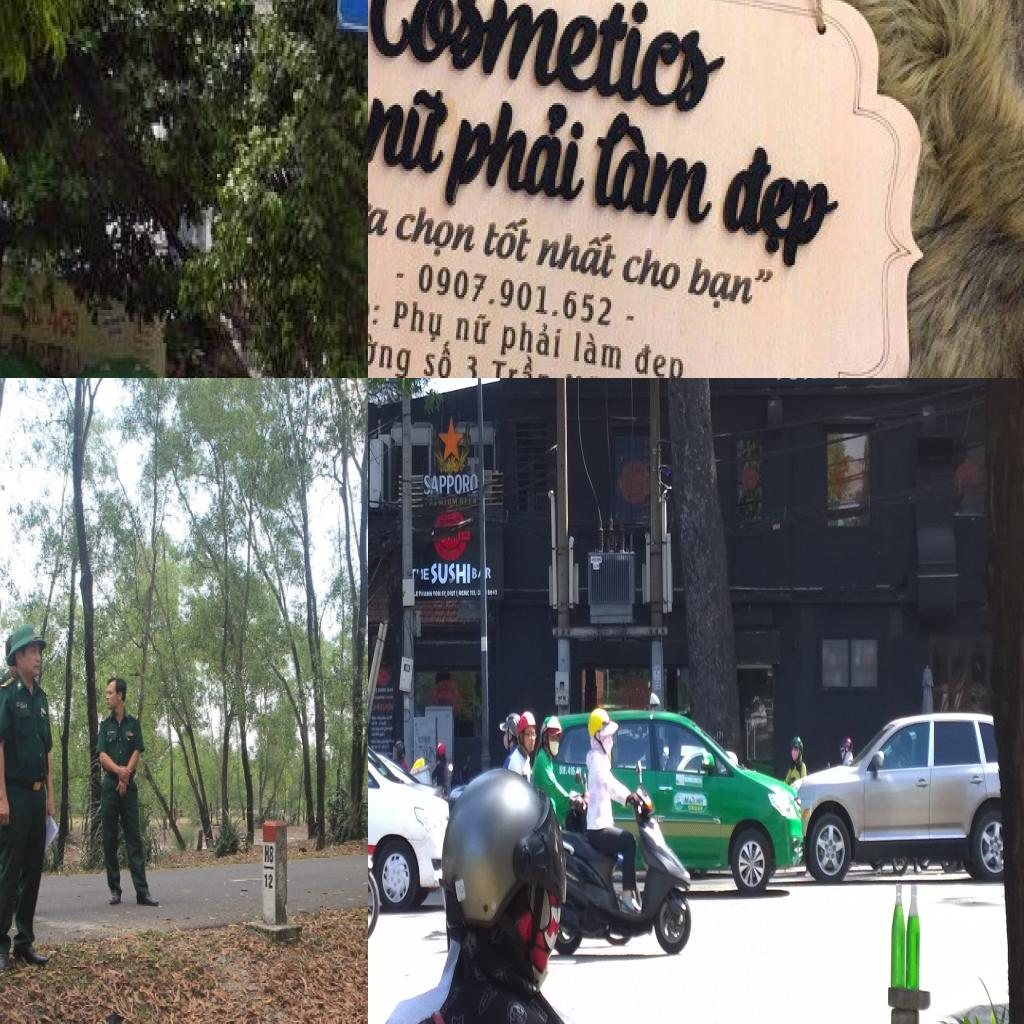text: (368, 0, 734, 128), (438, 82, 596, 218), (720, 135, 848, 284), (587, 110, 723, 236), (413, 259, 627, 333), (368, 71, 459, 182), (389, 197, 485, 269), (682, 250, 779, 319), (531, 229, 621, 284), (496, 314, 566, 368), (619, 246, 688, 297), (478, 216, 538, 269), (389, 295, 446, 346), (572, 327, 626, 376), (368, 324, 417, 378), (632, 337, 691, 378), (368, 186, 398, 252), (452, 308, 494, 350), (486, 357, 555, 378), (422, 337, 455, 378), (48, 304, 82, 343), (423, 474, 478, 496), (431, 562, 471, 585), (368, 282, 385, 333), (460, 352, 483, 378), (530, 1001, 548, 1024), (263, 844, 276, 866), (684, 796, 704, 806), (558, 766, 576, 777), (459, 497, 478, 506), (380, 702, 394, 712), (688, 805, 704, 812), (447, 497, 458, 506), (423, 566, 430, 580), (485, 566, 492, 580), (458, 589, 470, 597), (472, 566, 478, 580), (418, 592, 432, 598), (432, 590, 442, 598), (487, 589, 498, 596), (447, 590, 456, 598), (441, 590, 447, 599), (470, 590, 478, 596), (416, 590, 419, 598), (477, 590, 481, 596), (456, 589, 458, 599)
